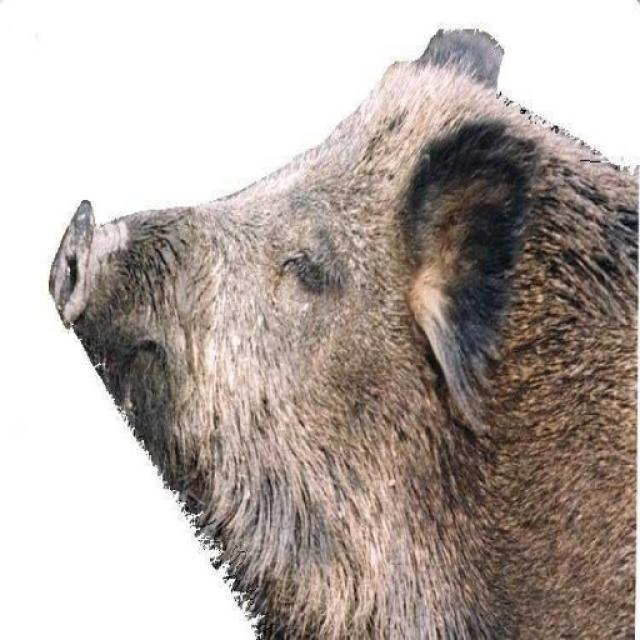pig: (19, 40, 640, 630)
